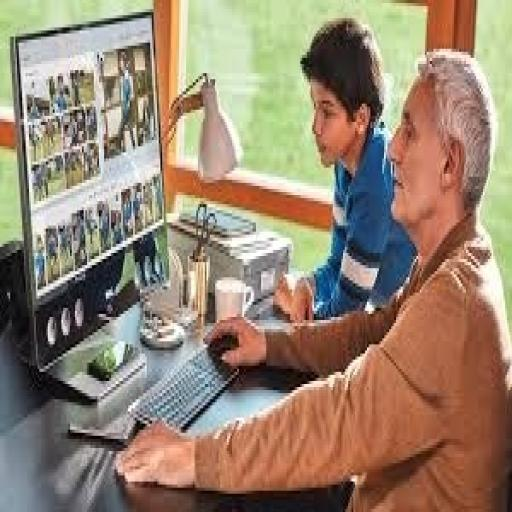sitting: (114, 27, 508, 506)
